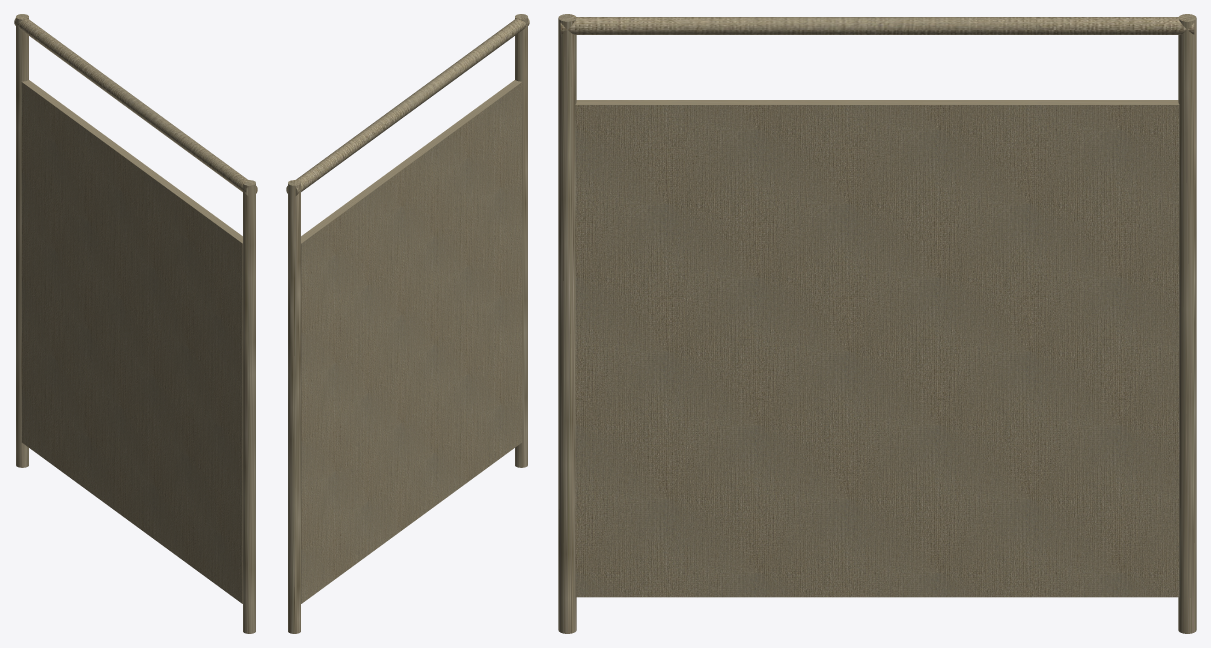
File: Cubicle_Wall.fbx
3 views of the same model, side by side, from view 1: azimuth 30°, elevation 25°; view 2: azimuth 150°, elevation 25°; view 3: azimuth 270°, elevation 25° (orthographic). The views are drawn at different scales.
Visible parts, largest first — view 1: Cube, Cylinder; view 2: Cube, Cylinder; view 3: Cube, Cylinder.
Boxes of the visible parts, x1,y1,x2,y2 form: Cube: (21, 80, 242, 603); Cylinder: (14, 14, 257, 633); Cube: (301, 80, 522, 603); Cylinder: (286, 14, 529, 633); Cube: (575, 100, 1179, 597); Cylinder: (558, 14, 1196, 633).
Bounding box in the file's own units: 60 × 2238 × 2114.
